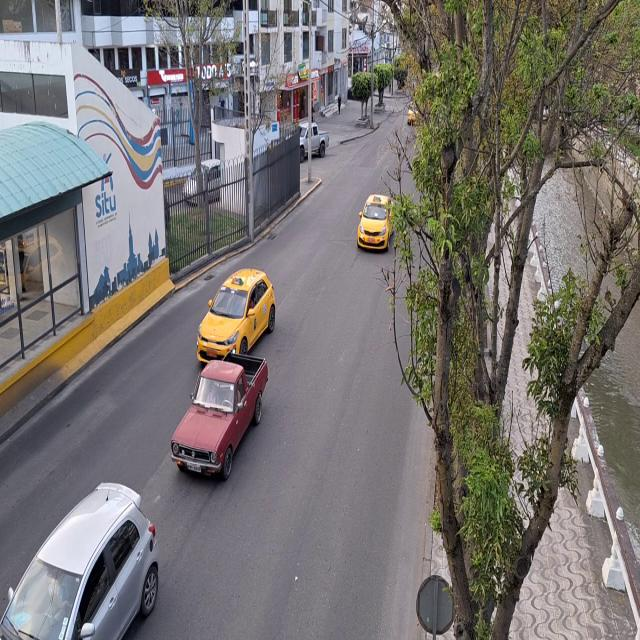CMT: (170, 351, 268, 478), (300, 122, 330, 159)
SED: (196, 267, 276, 363), (356, 192, 391, 252)
SUV: (0, 480, 161, 639)
